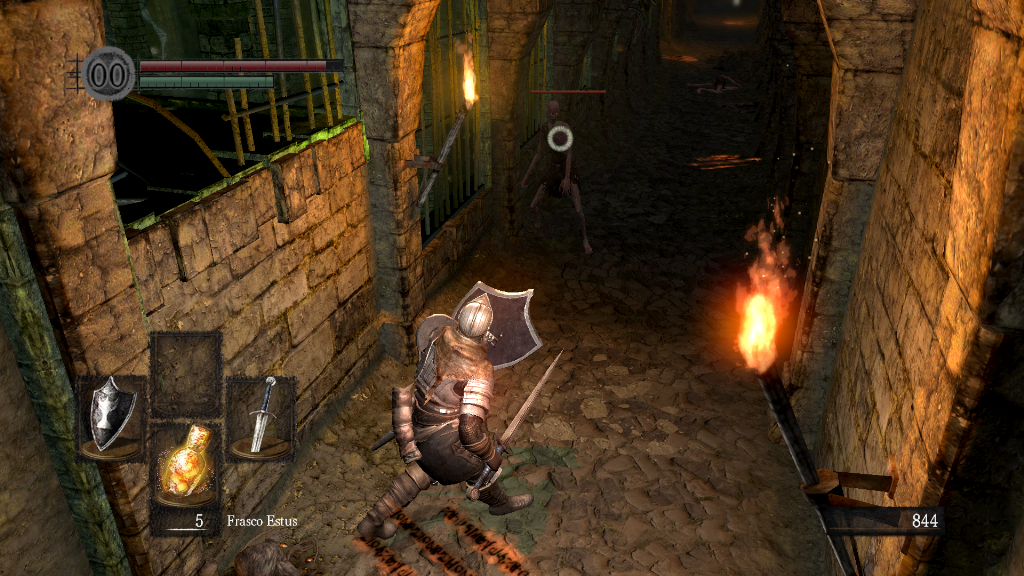health: (138, 58, 343, 71)
hollow: (520, 102, 594, 255)
humanity: (80, 45, 136, 102)
player: (355, 279, 565, 543)
souls: (825, 506, 945, 536)
stamina: (138, 74, 274, 88)
